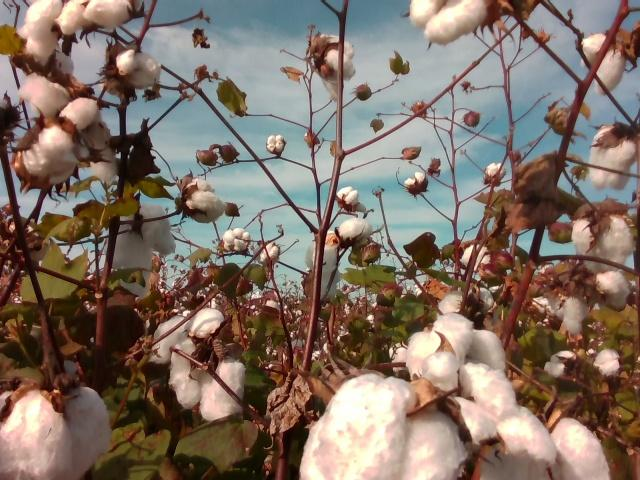cotton_ready: (301, 373, 467, 480), (457, 362, 556, 480), (0, 377, 112, 480), (408, 314, 505, 390), (107, 204, 176, 297), (171, 339, 244, 421), (18, 73, 99, 132), (573, 208, 639, 275), (21, 126, 92, 187), (149, 309, 224, 364), (552, 417, 612, 480), (411, 0, 488, 42), (15, 0, 63, 64), (591, 126, 638, 190), (78, 118, 121, 186), (316, 33, 356, 105), (580, 33, 625, 95), (55, 0, 132, 34), (538, 295, 589, 335), (184, 178, 225, 223), (117, 50, 161, 91), (305, 230, 342, 272), (597, 270, 631, 311), (336, 217, 373, 248), (312, 268, 344, 301), (436, 291, 466, 320), (460, 243, 491, 271), (335, 187, 368, 212), (545, 350, 575, 377), (594, 349, 621, 377), (224, 227, 251, 252), (468, 286, 495, 309), (389, 342, 409, 372), (405, 171, 429, 194), (258, 242, 279, 263), (483, 164, 506, 182), (267, 136, 285, 156)
